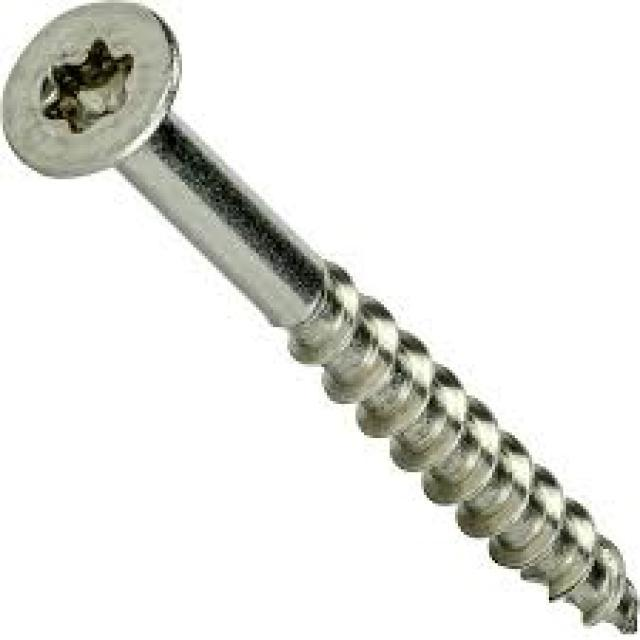torx: (1, 1, 181, 180)
